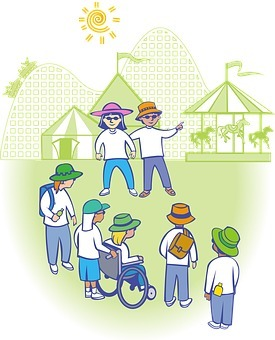chair: (95, 240, 158, 310)
horse: (217, 117, 250, 144), (248, 125, 274, 149), (190, 126, 215, 150)
person: (126, 101, 187, 199), (43, 162, 85, 277), (73, 196, 118, 303), (90, 100, 140, 196), (158, 202, 198, 309), (205, 223, 242, 328), (104, 212, 152, 292)
